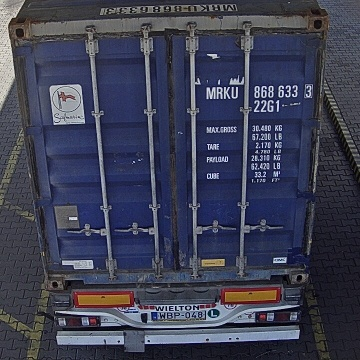serial_id: (206, 84, 312, 98)
